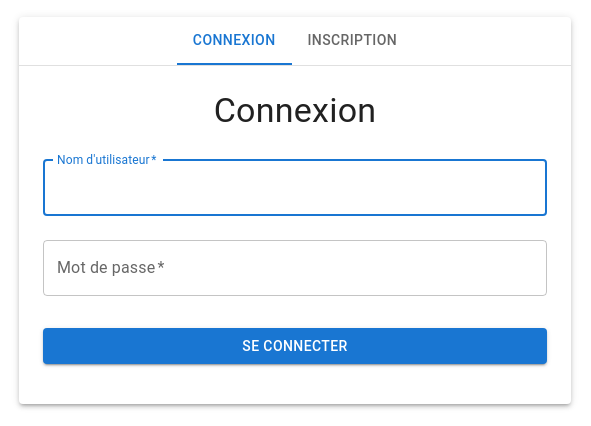
LoginPage › shows loading state during form submission
This screenshot has width=591, height=426.
Type "testuser" into the field labelled "Nom d'utilisateur *" at x=295, y=188, box [43,160,547,216]
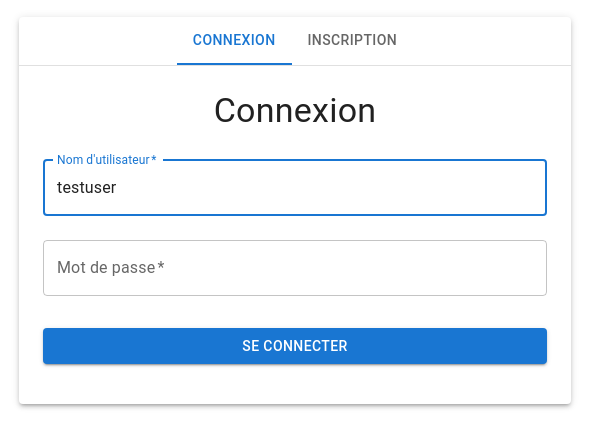
Type "password123" into the password field labelled "Mot de passe *" at x=295, y=268, box [43,240,547,296]
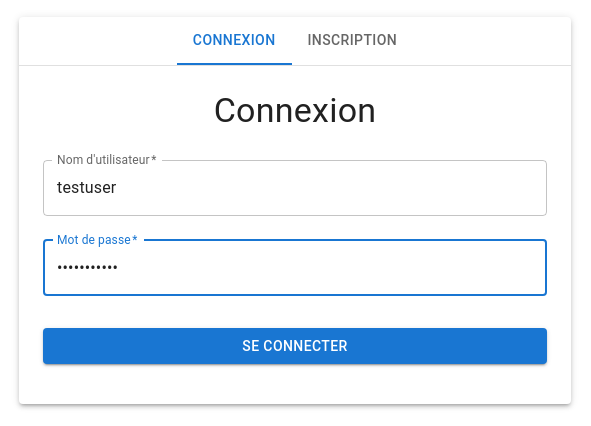
Click the button "Se connecter" at x=295, y=346, box [43,328,547,364]
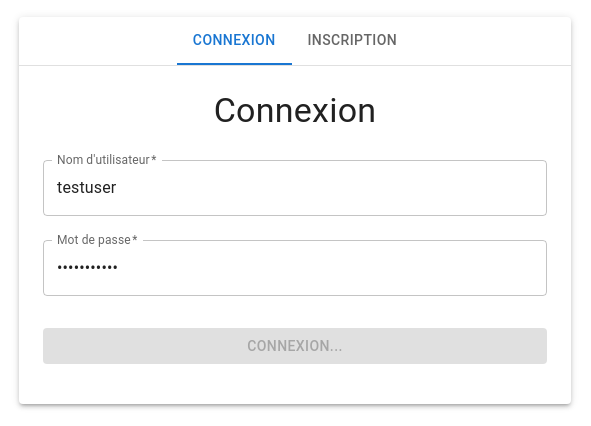
Now the button "Connexion..." is disabled, box [43,328,547,364]
